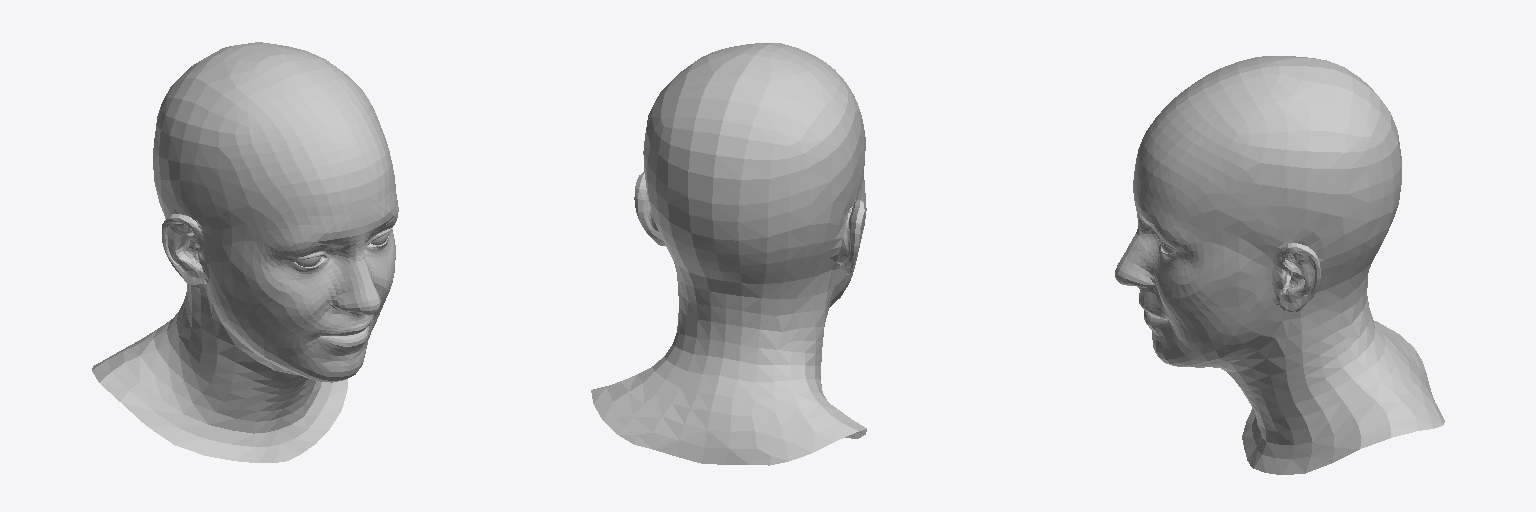
File: 01223_w_HIFI3D_UV_simply_handle_eyeballs.obj
3 views of the same model, side by side, from view 1: azimuth 30°, elevation 25°; view 2: azimuth 150°, elevation 25°; view 3: azimuth 270°, elevation 25° (orthographic).
Size of the model in its own units: 0.2125 by 0.3233 by 0.2456.